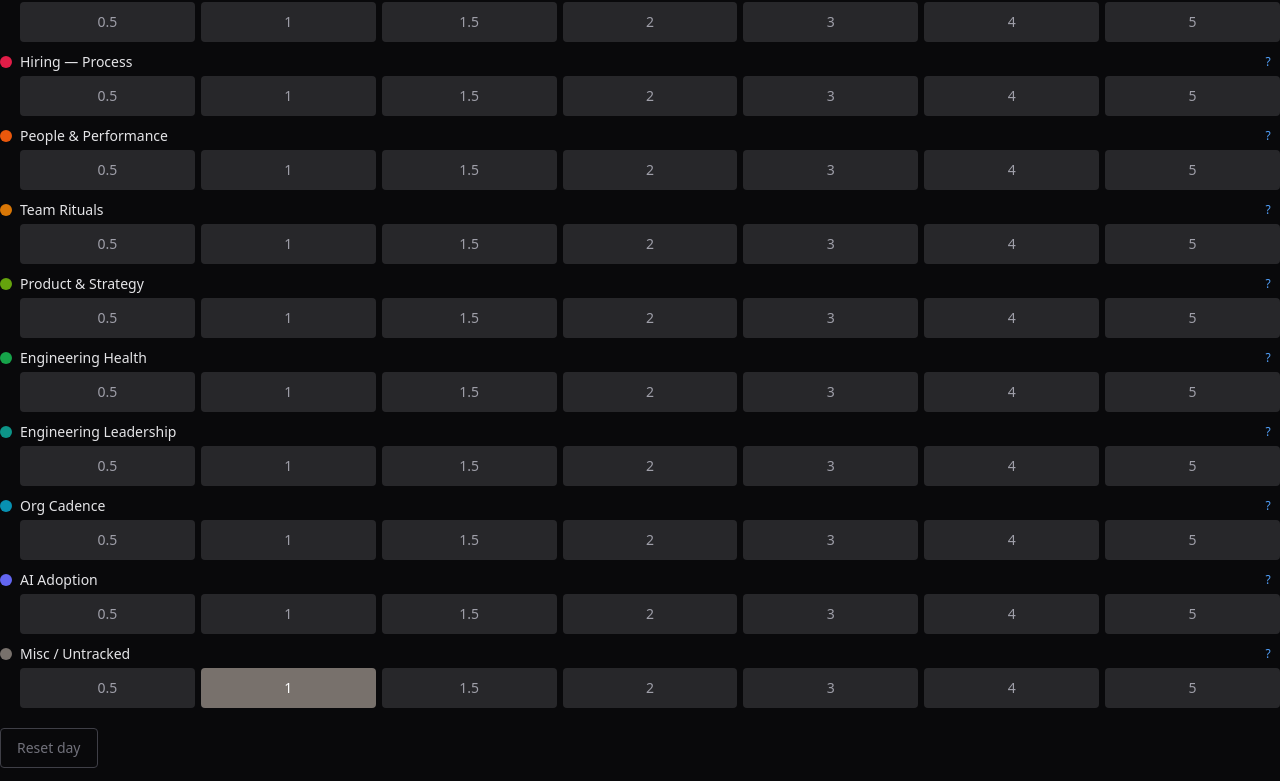
it: LogView › reset day button clears all hours
(page scrolled)
Click the button "Reset day" at (49,748), box [0,728,98,768]
(page scrolled)
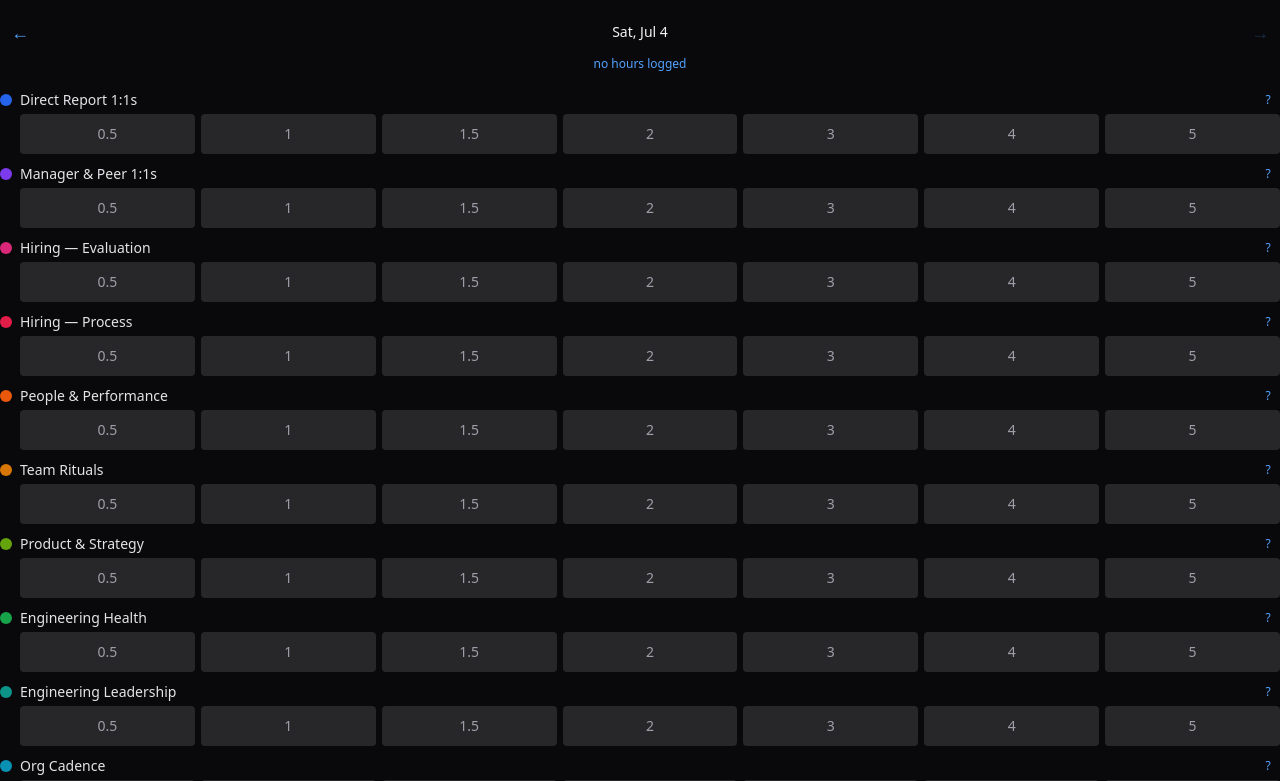
Expected: the button "no hours logged" is shown, [594,56,686,72]
